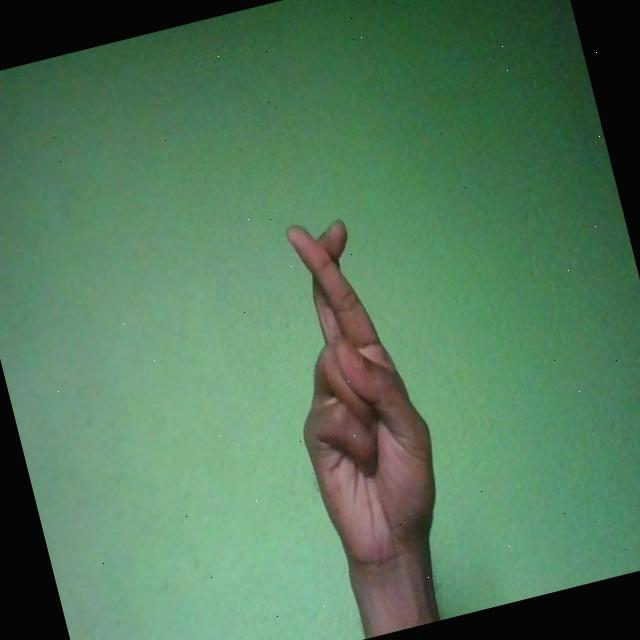Ok: (252, 203, 460, 588)
